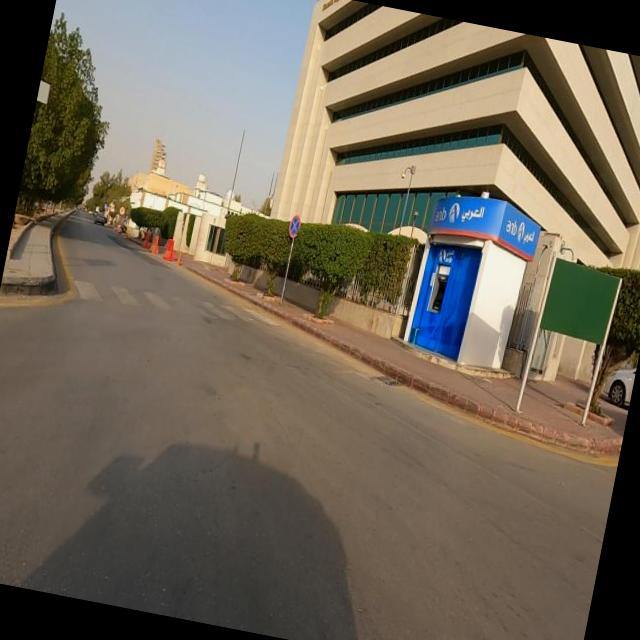debris: (255, 177, 332, 276)
